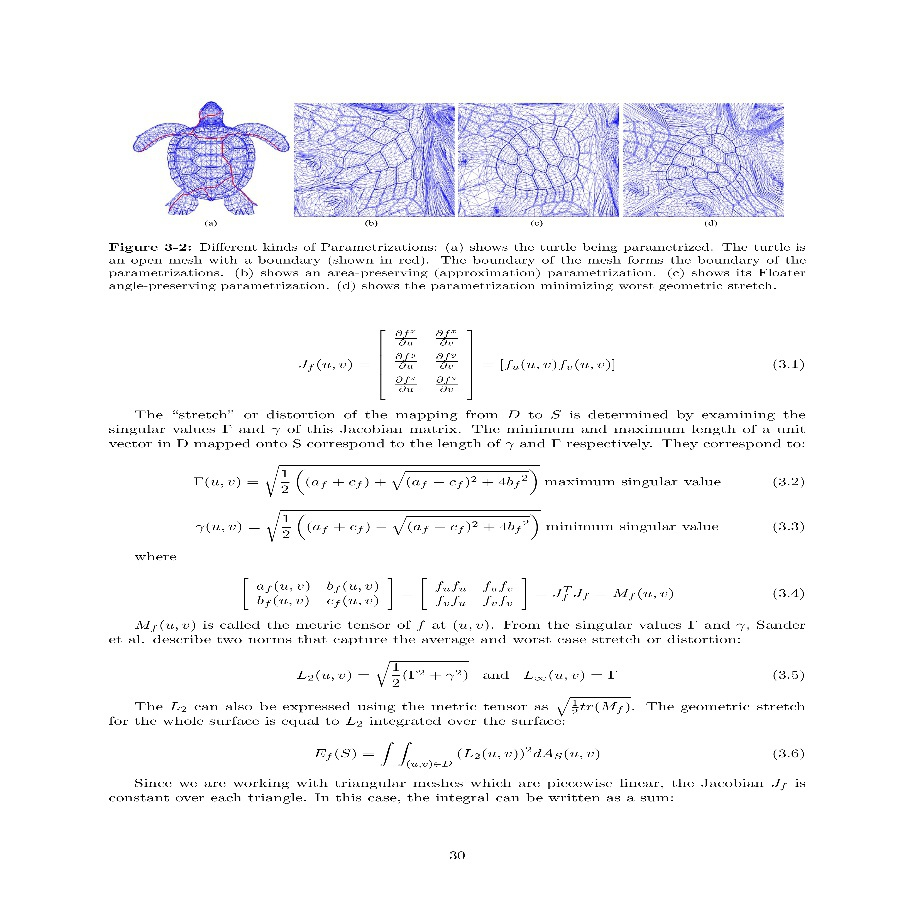eq: (295, 326, 621, 401), (238, 570, 682, 615), (195, 505, 544, 548), (191, 462, 542, 497), (314, 737, 602, 769), (296, 655, 472, 691), (520, 663, 622, 688)
